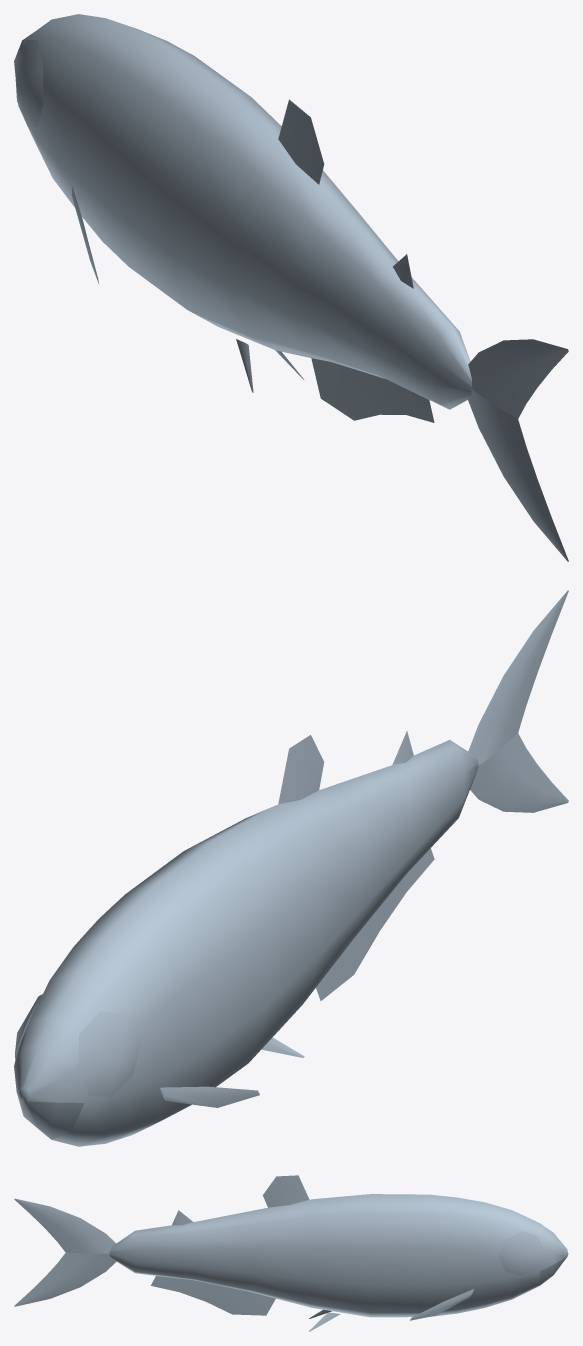
File: cardinal_tetra_lo.glb
3 renders of one model, top to bottom at view 1: azimuth 30°, elevation 25°; view 2: azimuth 150°, elevation 25°; view 3: azimuth 270°, elevation 25°, orthographic. The views are drawn at different scales.
Parts seen in each view (by area): view 1: cardinal_tetra_lo; view 2: cardinal_tetra_lo; view 3: cardinal_tetra_lo.
Part boxes in pixels (x1,y1,x2,y2): cardinal_tetra_lo: (14, 14, 568, 561); cardinal_tetra_lo: (14, 590, 568, 1146); cardinal_tetra_lo: (14, 1175, 568, 1331).
Bounding box in the file's own units: 0.00713 × 0.0125 × 0.0419.
